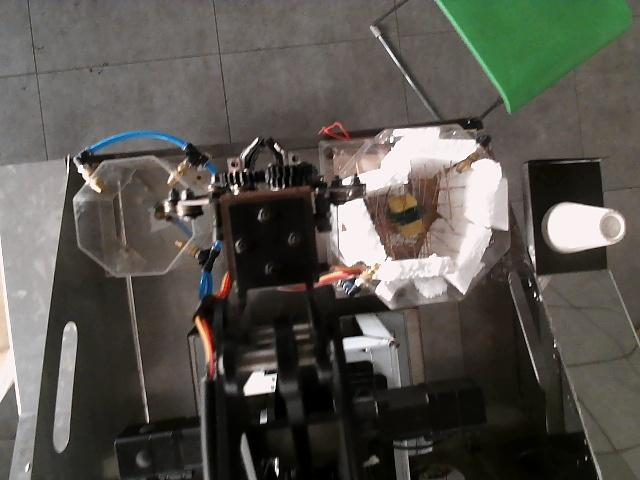cup: (542, 202, 625, 252)
